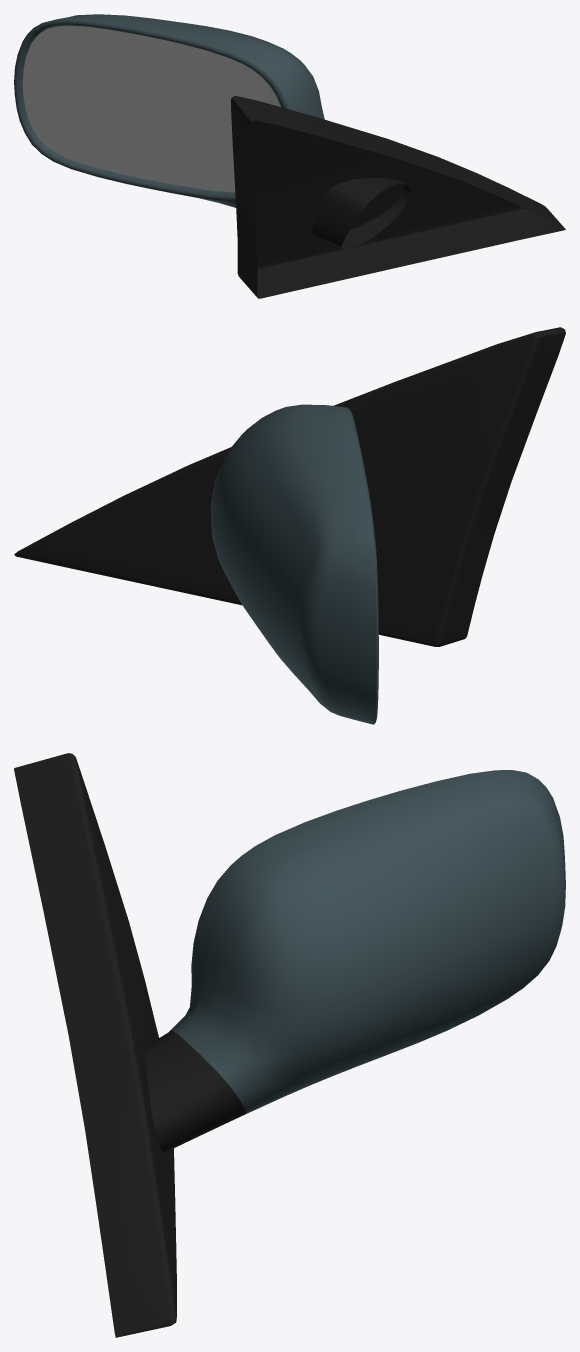
The picture shows the model from 3 angles, top to bottom: view 1: azimuth 30°, elevation 25°; view 2: azimuth 150°, elevation 25°; view 3: azimuth 270°, elevation 25°; orthographic projection. The views are drawn at different scales.
Parts seen in each view (by area): view 1: P222_15_261I_L_2_D_P222_15_261I_L, P222_15_261I_L_P222_15_261I_L_3_DTaSI, P222_15_261I_L_P222_15_261I_L_1_DaS, P222_15_261I_L_P222_15_261I_L_1_DaS_E; view 2: P222_15_261I_L_2_D_P222_15_261I_L, P222_15_261I_L_P222_15_261I_L_1_DaS, P222_15_261I_L_P222_15_261I_L_1_DaS_E; view 3: P222_15_261I_L_P222_15_261I_L_1_DaS, P222_15_261I_L_2_D_P222_15_261I_L.
Boxes of the visible parts, left/top/right/bottom form: P222_15_261I_L_2_D_P222_15_261I_L: left=231, top=96, right=565, bottom=298; P222_15_261I_L_P222_15_261I_L_3_DTaSI: left=22, top=25, right=280, bottom=192; P222_15_261I_L_P222_15_261I_L_1_DaS: left=49, top=14, right=324, bottom=207; P222_15_261I_L_P222_15_261I_L_1_DaS_E: left=14, top=20, right=289, bottom=201; P222_15_261I_L_2_D_P222_15_261I_L: left=14, top=327, right=565, bottom=646; P222_15_261I_L_P222_15_261I_L_1_DaS: left=210, top=404, right=376, bottom=724; P222_15_261I_L_P222_15_261I_L_1_DaS_E: left=348, top=409, right=378, bottom=723; P222_15_261I_L_P222_15_261I_L_1_DaS: left=171, top=770, right=565, bottom=1113; P222_15_261I_L_2_D_P222_15_261I_L: left=14, top=753, right=245, bottom=1337.
Size of the model in its own units: 29.4 by 16.16 by 23.98.
